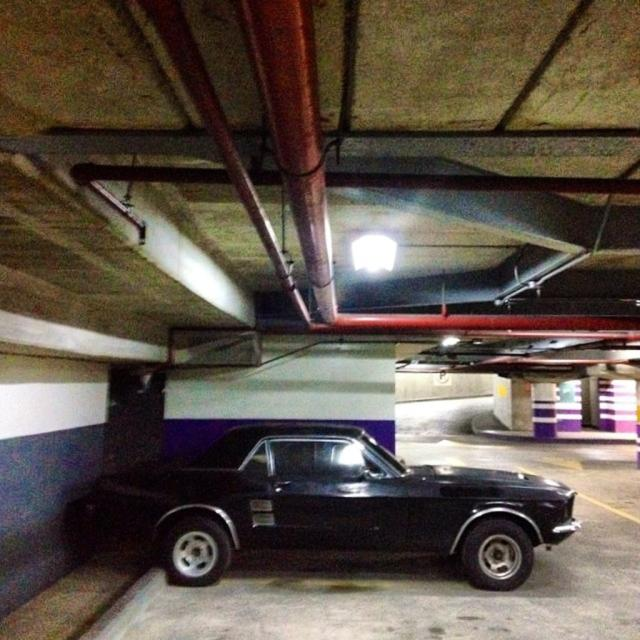car: (92, 423, 586, 592)
